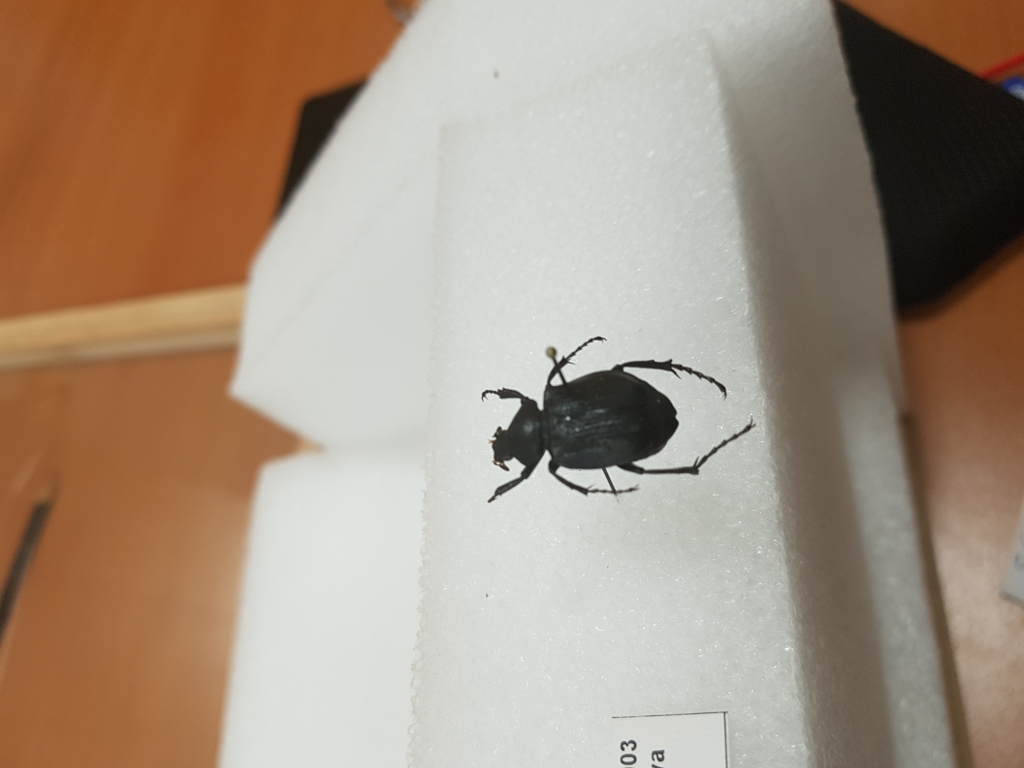Gnorimus_variabilis: (469, 326, 761, 515)
